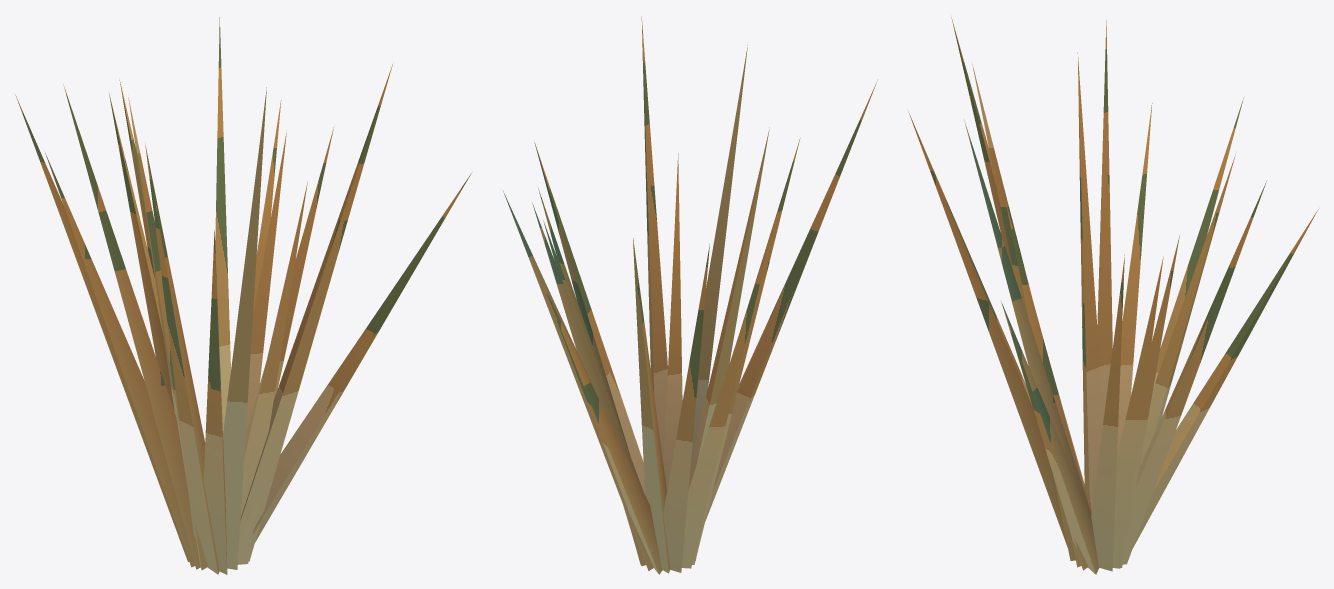
Rendered from wland.grass__tall.glb.
3 views of the same model, side by side, from view 1: azimuth 30°, elevation 25°; view 2: azimuth 150°, elevation 25°; view 3: azimuth 270°, elevation 25° (orthographic). The views are drawn at different scales.
Parts seen in each view (by area): view 1: kit_blades; view 2: kit_blades; view 3: kit_blades.
Part boxes in pixels (x1,y1,x2,y2): kit_blades: (15, 17, 471, 574); kit_blades: (503, 16, 877, 574); kit_blades: (908, 17, 1318, 574).
Bounding box in the file's own units: 0.5635 × 0.8082 × 0.6118.
Materials: 1 (1 with a texture image).
